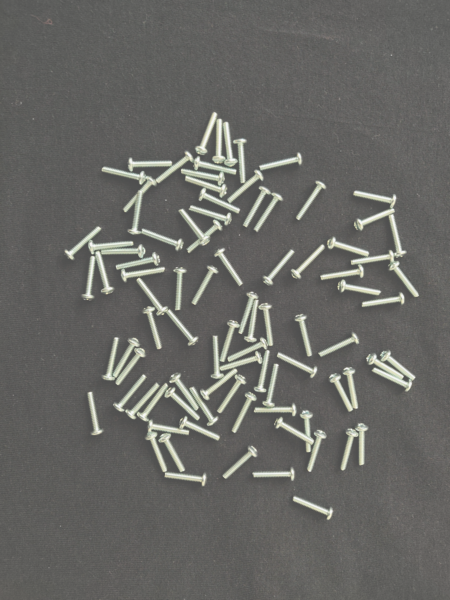longscrew: (117, 178, 158, 217), (153, 151, 195, 186), (64, 224, 104, 259), (188, 383, 218, 428), (134, 281, 170, 317), (276, 414, 314, 448), (263, 246, 296, 285), (220, 446, 259, 479), (193, 267, 223, 309), (165, 387, 200, 423), (117, 347, 146, 389), (115, 373, 144, 415), (253, 192, 285, 230), (239, 187, 271, 225), (293, 242, 325, 280), (172, 371, 199, 416), (180, 207, 208, 249), (316, 331, 358, 359), (215, 251, 247, 287), (218, 375, 246, 416), (202, 369, 239, 400), (189, 199, 233, 225), (113, 336, 140, 378), (391, 264, 423, 299), (277, 351, 317, 379), (141, 382, 169, 421), (296, 184, 328, 218), (190, 220, 221, 255), (130, 380, 158, 418), (184, 414, 222, 442), (166, 314, 199, 346), (201, 186, 240, 213), (374, 366, 412, 393), (95, 250, 118, 294), (326, 375, 354, 411), (381, 351, 418, 378), (369, 355, 406, 382), (229, 140, 252, 182), (205, 337, 228, 379), (207, 120, 229, 163), (221, 122, 243, 165), (220, 319, 242, 362), (241, 299, 263, 342), (293, 314, 315, 357), (253, 351, 275, 394), (263, 363, 285, 406), (293, 498, 334, 521), (195, 111, 217, 153), (235, 293, 257, 335), (257, 305, 279, 347), (388, 215, 409, 259), (233, 393, 255, 434), (327, 239, 376, 257), (353, 210, 402, 228), (251, 468, 300, 486), (160, 471, 209, 489), (125, 155, 174, 173), (182, 166, 231, 184), (309, 428, 327, 477), (301, 408, 319, 457), (84, 390, 102, 439), (103, 335, 121, 384), (182, 178, 230, 196), (193, 159, 241, 177), (149, 418, 189, 439), (145, 307, 162, 354), (342, 369, 361, 411), (140, 230, 184, 248), (259, 153, 307, 169), (351, 190, 399, 206), (361, 296, 409, 312), (147, 431, 167, 469), (162, 433, 182, 471), (338, 280, 385, 296), (251, 404, 300, 419), (348, 252, 396, 267), (318, 266, 365, 281), (89, 237, 133, 253), (100, 244, 144, 260), (118, 253, 162, 269), (171, 266, 185, 315), (122, 266, 166, 281), (101, 169, 145, 184), (342, 426, 355, 473), (358, 423, 371, 470), (130, 194, 143, 233), (85, 256, 94, 304)
